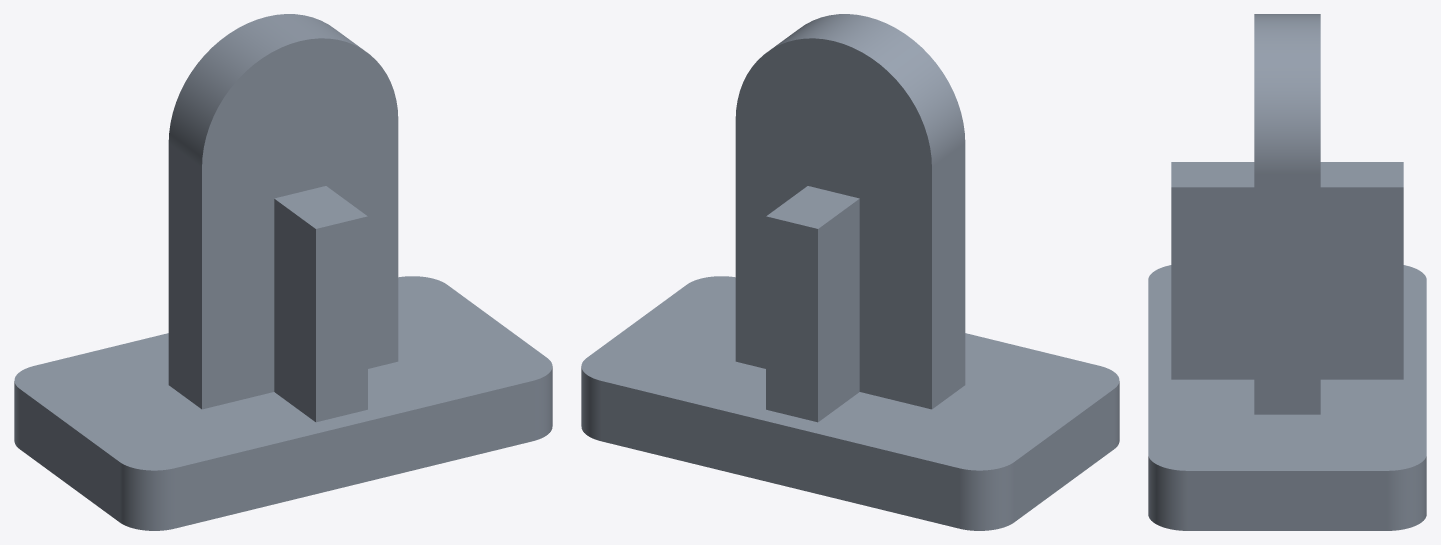
Rendered from step_04.glb.
3 views of the same model, side by side, from view 1: azimuth 30°, elevation 25°; view 2: azimuth 150°, elevation 25°; view 3: azimuth 270°, elevation 25° (orthographic).
Parts seen in each view (by area): view 1: part__pedestal bearing; view 2: part__pedestal bearing; view 3: part__pedestal bearing.
Part boxes in pixels (left/top/right/bottom): part__pedestal bearing: left=14, top=14, right=552, bottom=530; part__pedestal bearing: left=581, top=14, right=1119, bottom=530; part__pedestal bearing: left=1148, top=14, right=1426, bottom=530.
Size of the model in its own units: 74 by 67 by 42.
